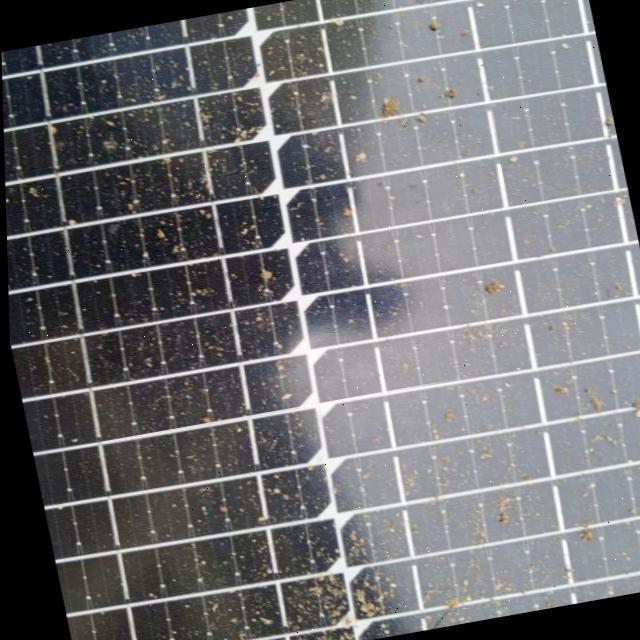Surface Contaminant: (1, 0, 640, 640)
